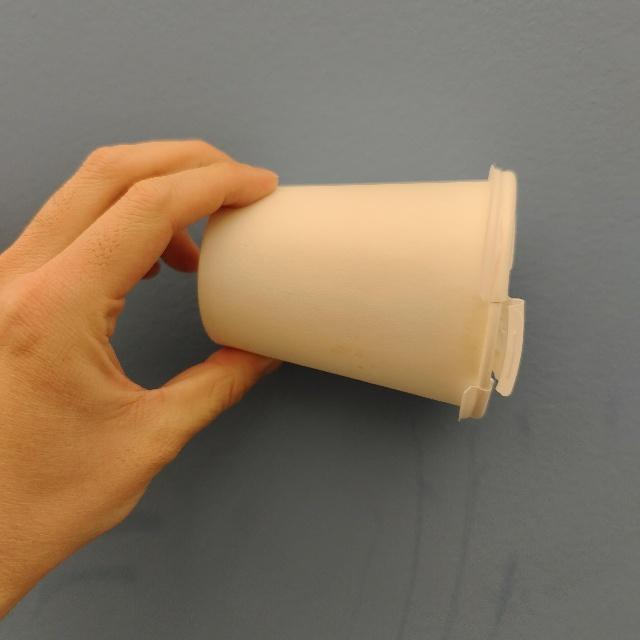paper_cup: (186, 160, 536, 430)
